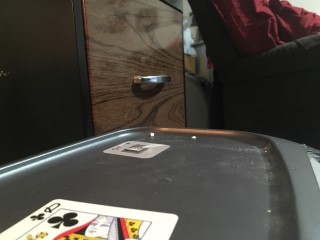QueenOfClubs: (1, 199, 179, 240)
